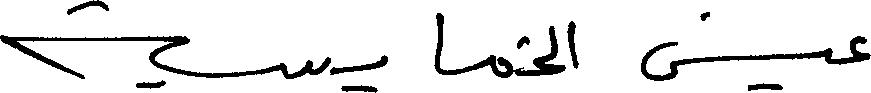X: (0, 0, 184, 92), (641, 37, 676, 85), (535, 21, 562, 80), (282, 52, 329, 83), (433, 8, 442, 79), (567, 16, 578, 73), (853, 31, 870, 67), (492, 50, 509, 82), (820, 43, 837, 68), (376, 50, 386, 92)
